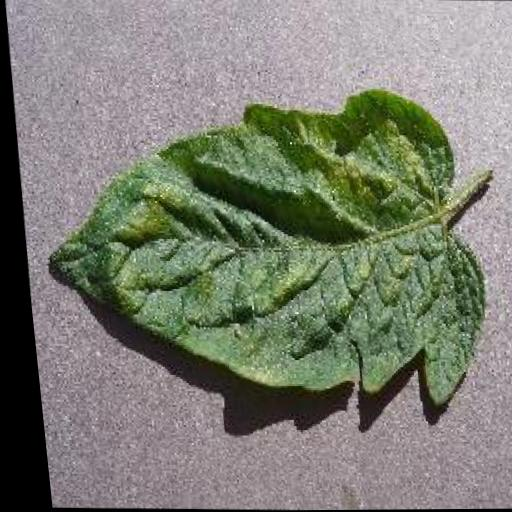Spider Mites: (23, 82, 492, 409)
